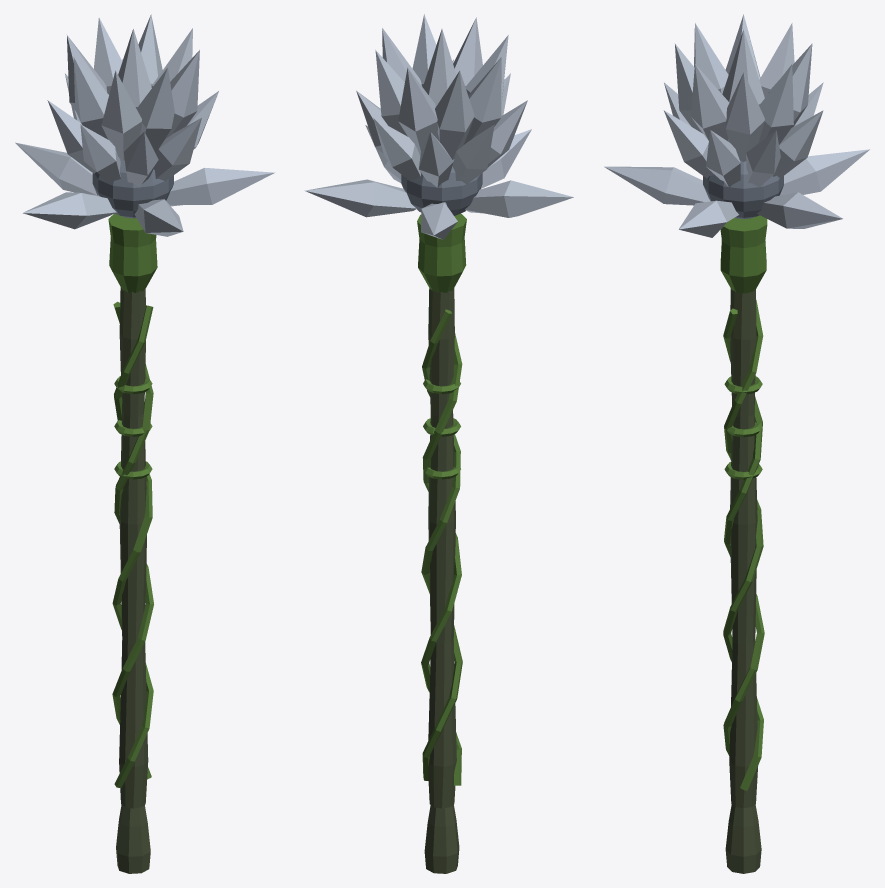
Rendered from staff_spikedclub.glb.
3 renders of one model, left to right at view 1: azimuth 30°, elevation 25°; view 2: azimuth 150°, elevation 25°; view 3: azimuth 270°, elevation 25°, orthographic.
Parts seen in each view (by area): view 1: Sp_Shaft, Sp_Vine1, Sp_Neck, Sp_Spike2_4, Sp_Vine0, Sp_Core, Sp_Spike2_2, Sp_Butt, Sp_Spike0_5, Sp_Spike2_1, Sp_Spike0_6, Sp_Spike0_4 (+12 smaller); view 2: Sp_Shaft, Sp_Vine0, Sp_Neck, Sp_Vine1, Sp_Spike2_0, Sp_Spike2_2, Sp_Spike0_3, Sp_Core, Sp_Butt, Sp_Spike0_2, Sp_Spike0_4, Sp_Spike1_1 (+12 smaller); view 3: Sp_Shaft, Sp_Neck, Sp_Vine0, Sp_Vine1, Sp_Spike2_3, Sp_Core, Sp_Butt, Sp_Spike2_1, Sp_Spike0_0, Sp_Spike2_0, Sp_Spike0_7, Sp_Spike0_1 (+10 smaller).
Boxes of the visible parts, bbox=[...] form: Sp_Shaft: bbox=[119, 287, 148, 808]; Sp_Vine1: bbox=[112, 305, 153, 788]; Sp_Neck: bbox=[108, 213, 157, 292]; Sp_Spike2_4: bbox=[166, 167, 274, 206]; Sp_Vine0: bbox=[112, 301, 153, 778]; Sp_Core: bbox=[92, 158, 173, 218]; Sp_Spike2_2: bbox=[23, 192, 116, 229]; Sp_Butt: bbox=[116, 805, 150, 873]; Sp_Spike0_5: bbox=[101, 70, 141, 160]; Sp_Spike2_1: bbox=[15, 142, 96, 194]; Sp_Spike0_6: bbox=[136, 67, 174, 153]; Sp_Spike0_4: bbox=[73, 57, 108, 139]; Sp_Shaft: bbox=[428, 288, 456, 808]; Sp_Vine0: bbox=[421, 309, 462, 780]; Sp_Neck: bbox=[417, 213, 466, 292]; Sp_Vine1: bbox=[421, 333, 462, 785]; Sp_Spike2_0: bbox=[305, 179, 416, 217]; Sp_Spike2_2: bbox=[465, 180, 573, 217]; Sp_Spike0_3: bbox=[435, 70, 474, 159]; Sp_Core: bbox=[401, 159, 482, 215]; Sp_Butt: bbox=[424, 805, 459, 873]; Sp_Spike0_2: bbox=[398, 67, 437, 155]; Sp_Spike0_4: bbox=[464, 57, 501, 144]; Sp_Spike1_1: bbox=[373, 117, 420, 181]; Sp_Shaft: bbox=[729, 288, 757, 808]; Sp_Neck: bbox=[720, 215, 767, 293]; Sp_Vine0: bbox=[723, 300, 763, 790]; Sp_Vine1: bbox=[723, 308, 764, 755]; Sp_Spike2_3: bbox=[604, 166, 710, 205]; Sp_Core: bbox=[703, 160, 783, 219]; Sp_Butt: bbox=[725, 804, 761, 873]; Sp_Spike2_1: bbox=[780, 149, 869, 195]; Sp_Spike0_0: bbox=[726, 72, 764, 161]; Sp_Spike2_0: bbox=[757, 192, 842, 228]; Sp_Spike0_7: bbox=[691, 64, 729, 141]; Sp_Spike0_1: bbox=[758, 64, 793, 144].
Size of the model in its own units: 0.6808 by 2.36 by 0.682.
